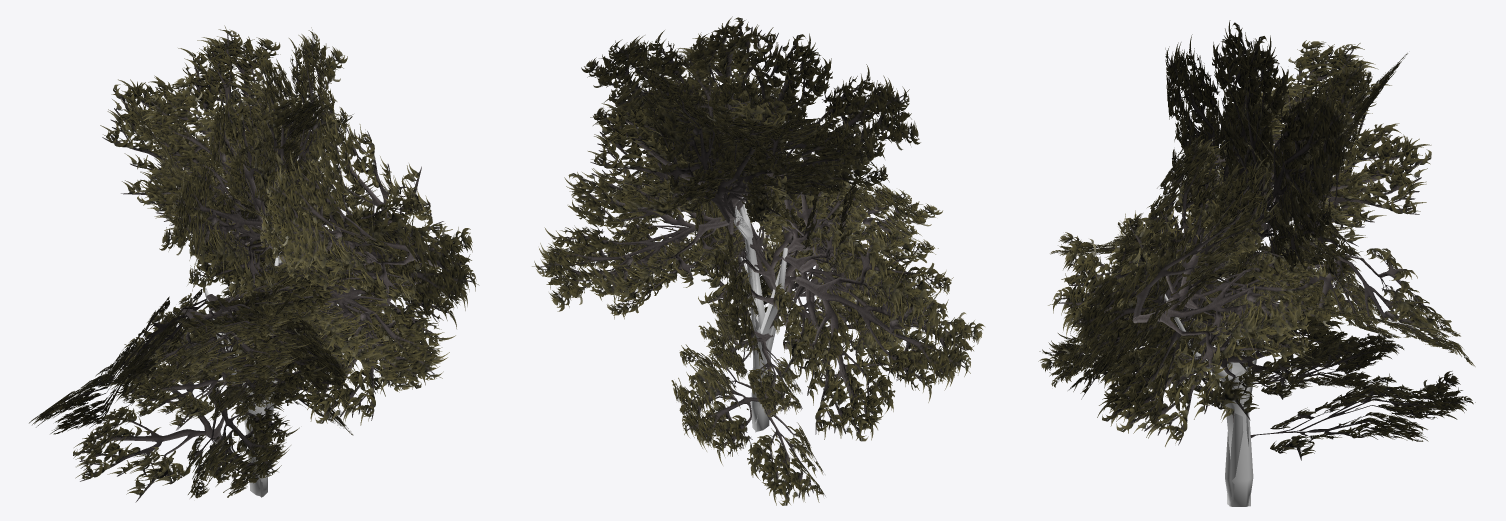
The model's file is GumTree.fbx.
The picture shows the model from 3 angles, left to right: view 1: azimuth 30°, elevation 25°; view 2: azimuth 150°, elevation 25°; view 3: azimuth 270°, elevation 25°; orthographic projection. The views are drawn at different scales.
Visible parts, largest first — view 1: GumTree2LOD3, GumTree2LOD1, GumTree2LOD2; view 2: GumTree2LOD3, GumTree2LOD1, GumTree2LOD2; view 3: GumTree2LOD3, GumTree2LOD1, GumTree2LOD2.
Boxes of the visible parts, box(x1,y1,x2,y2) form: GumTree2LOD3: box(29, 25, 479, 502); GumTree2LOD1: box(106, 99, 417, 496); GumTree2LOD2: box(109, 100, 414, 497); GumTree2LOD3: box(532, 16, 984, 505); GumTree2LOD1: box(603, 74, 906, 431); GumTree2LOD2: box(607, 74, 907, 432); GumTree2LOD3: box(1038, 20, 1475, 460); GumTree2LOD1: box(1103, 94, 1403, 506); GumTree2LOD2: box(1113, 95, 1402, 506).
Size of the model in its own units: 2330 by 2433 by 2083.
